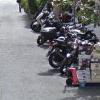Motorcycle: (27, 9, 89, 66)
